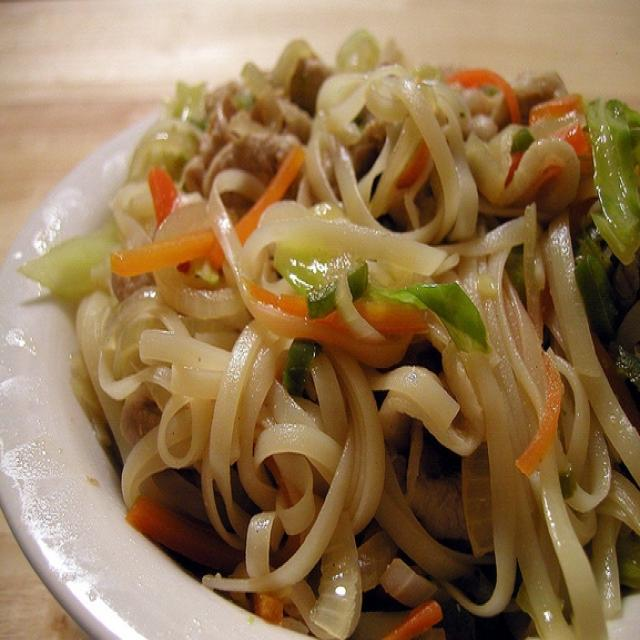猪肉菜式: (0, 16, 640, 640)
